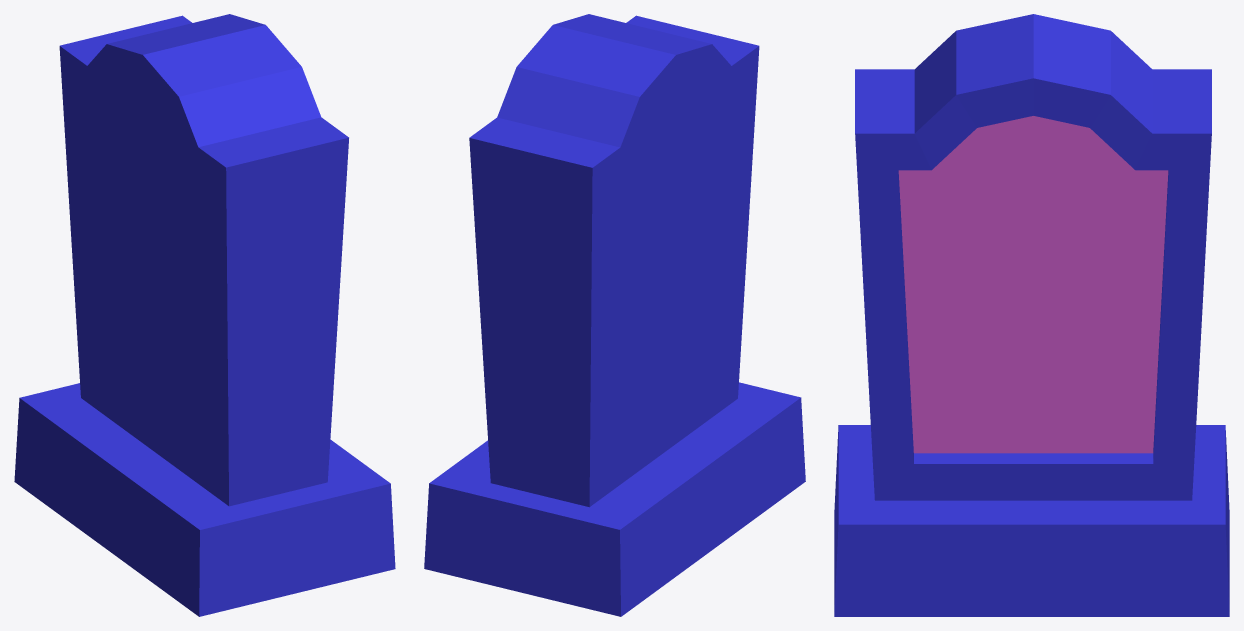
The model's file is large_gravestone.glb.
3 renders of one model, left to right at view 1: azimuth 30°, elevation 25°; view 2: azimuth 150°, elevation 25°; view 3: azimuth 270°, elevation 25°, orthographic. The views are drawn at different scales.
Visible parts, largest first — view 1: Plane; view 2: Plane; view 3: Plane.
Part boxes in pixels (x1,y1,x2,y2): Plane: (14,14,395,616); Plane: (424,14,805,616); Plane: (834,14,1229,616).
Bounding box in the file's own units: 0.7012 × 1.65 × 1.14.
